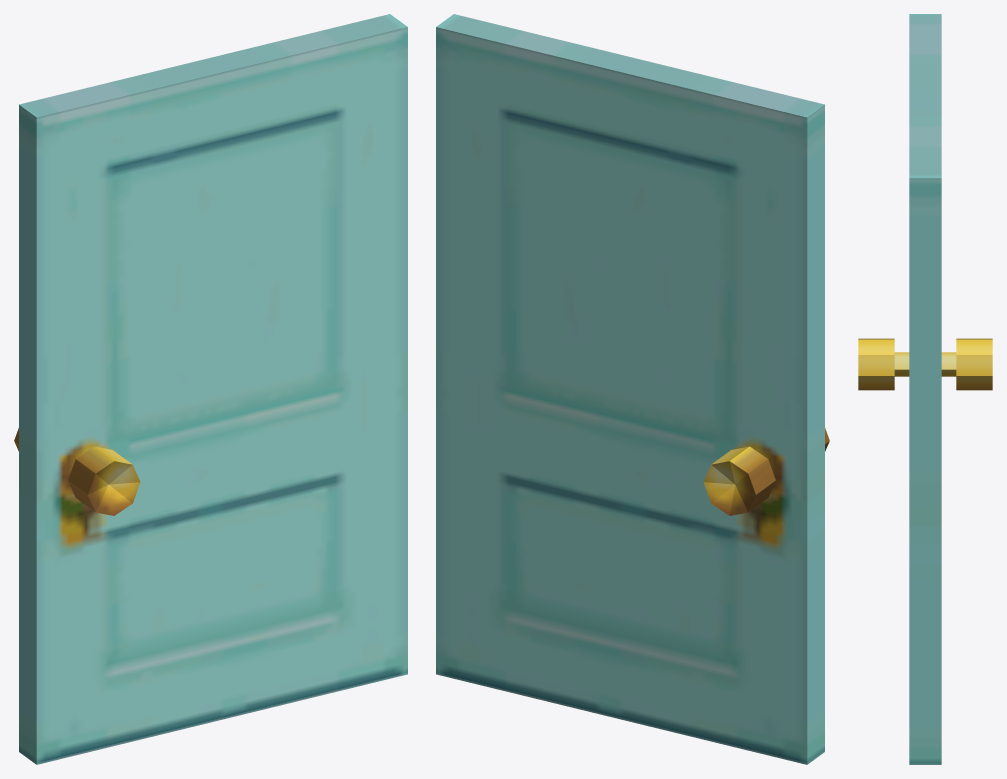
File: door.dae
The picture shows the model from 3 angles, left to right: view 1: azimuth 30°, elevation 25°; view 2: azimuth 150°, elevation 25°; view 3: azimuth 270°, elevation 25°; orthographic projection. The views are drawn at different scales.
Parts seen in each view (by area): view 1: m0; view 2: m0; view 3: m0.
Boxes of the visible parts, bbox=[...] form: m0: bbox=[14, 14, 407, 764]; m0: bbox=[436, 14, 829, 764]; m0: bbox=[858, 14, 992, 764].
Bounding box in the file's own units: 150 × 250 × 51.76.
1 material, 1 textured.
